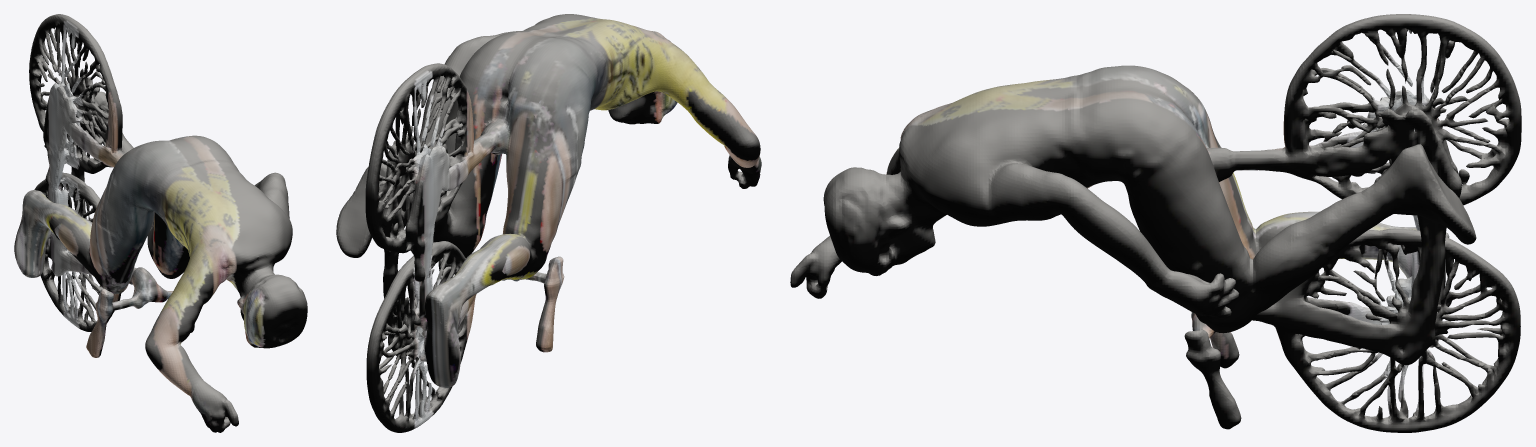
The model's file is Chien_Sculpture_Pure_Hunyuan.glb.
3 renders of one model, left to right at view 1: azimuth 30°, elevation 25°; view 2: azimuth 150°, elevation 25°; view 3: azimuth 270°, elevation 25°, orthographic. The views are drawn at different scales.
Parts seen in each view (by area): view 1: geometry_0; view 2: geometry_0; view 3: geometry_0.
Part boxes in pixels (x1,y1,x2,y2): geometry_0: (14,14,307,432); geometry_0: (336,14,761,432); geometry_0: (790,14,1521,432).
Bounding box in the file's own units: 44.16 × 62.94 × 100.
